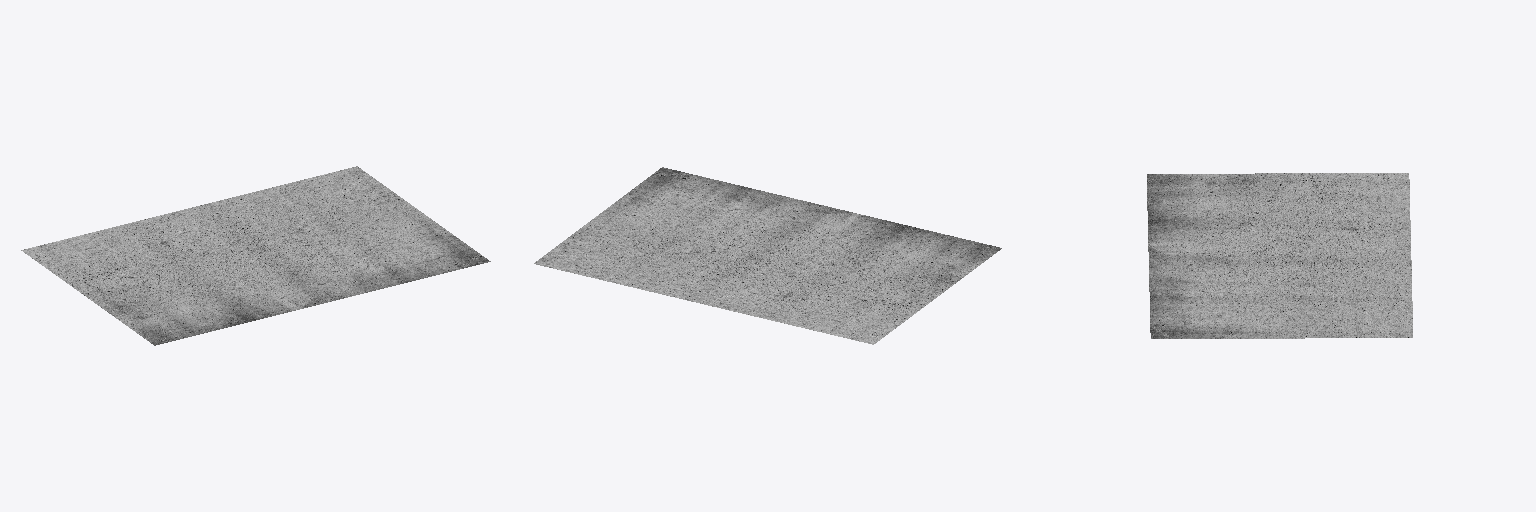
The picture shows the model from 3 angles: view 1: azimuth 30°, elevation 25°; view 2: azimuth 150°, elevation 25°; view 3: azimuth 270°, elevation 25°; orthographic projection.
Visible parts, largest first — view 1: PISOIN; view 2: PISOIN; view 3: PISOIN.
Boxes of the visible parts, x1,y1,x2,y2 form: PISOIN: [21, 166, 490, 345]; PISOIN: [534, 167, 1001, 344]; PISOIN: [1147, 173, 1412, 338].
Size of the model in its own units: 10.25 by 0 by 6.95.
Materials: 1 (1 with a texture image).